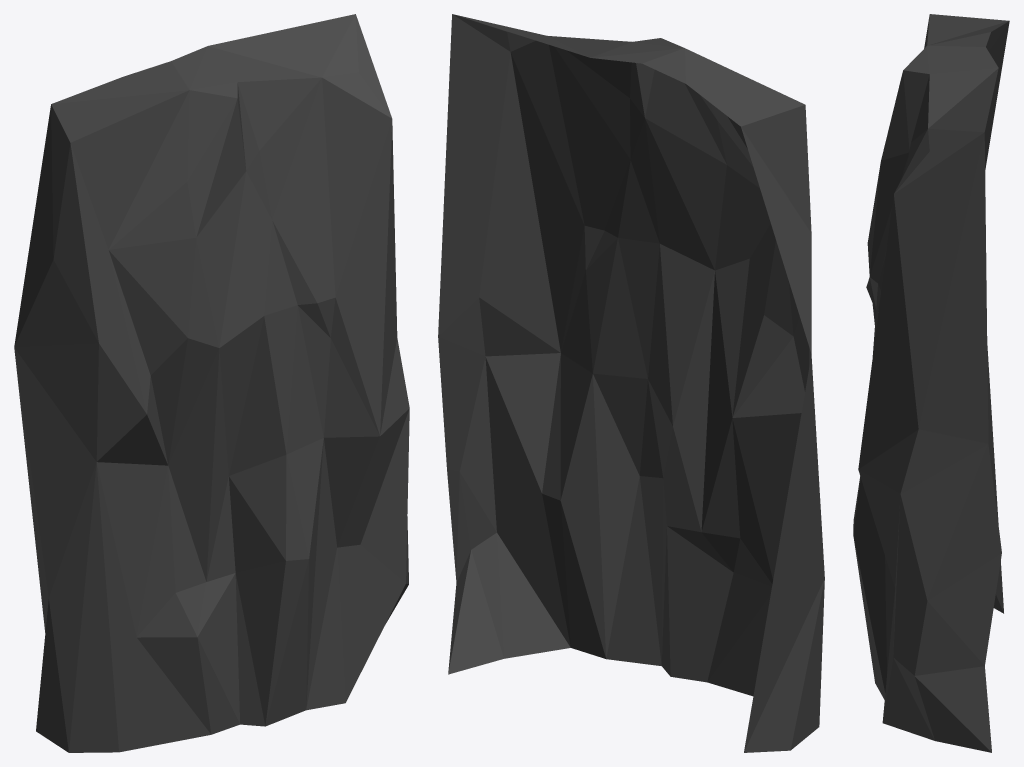
File: Cave_03.FBX
The picture shows the model from 3 angles, left to right: view 1: azimuth 30°, elevation 25°; view 2: azimuth 150°, elevation 25°; view 3: azimuth 270°, elevation 25°; orthographic projection. The views are drawn at different scales.
Parts seen in each view (by area): view 1: Cave_03; view 2: Cave_03; view 3: Cave_03.
Part boxes in pixels (x1,y1,x2,y2): Cave_03: (14,14,409,752); Cave_03: (438,14,824,752); Cave_03: (853,14,1009,752).
Size of the model in its own units: 33.63 by 55.75 by 12.74.
